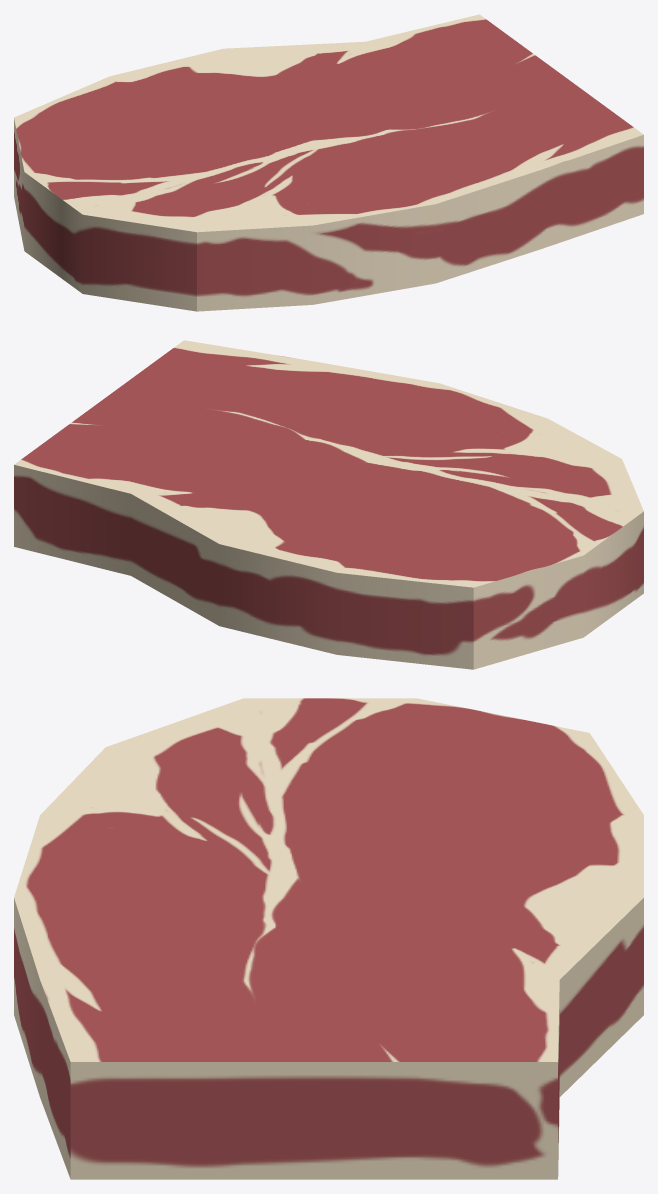
Rendered from Asset_Ingr_Meat_State_2.FBX.
The picture shows the model from 3 angles, top to bottom: view 1: azimuth 30°, elevation 25°; view 2: azimuth 150°, elevation 25°; view 3: azimuth 270°, elevation 25°; orthographic projection. The views are drawn at different scales.
Parts seen in each view (by area): view 1: Meat_state_1; view 2: Meat_state_1; view 3: Meat_state_1.
Part boxes in pixels (bbox=[...]): Meat_state_1: bbox=[14, 14, 643, 311]; Meat_state_1: bbox=[14, 340, 643, 669]; Meat_state_1: bbox=[14, 698, 643, 1179].
Size of the model in its own units: 13.26 by 2 by 9.71.
1 material, 1 textured.
